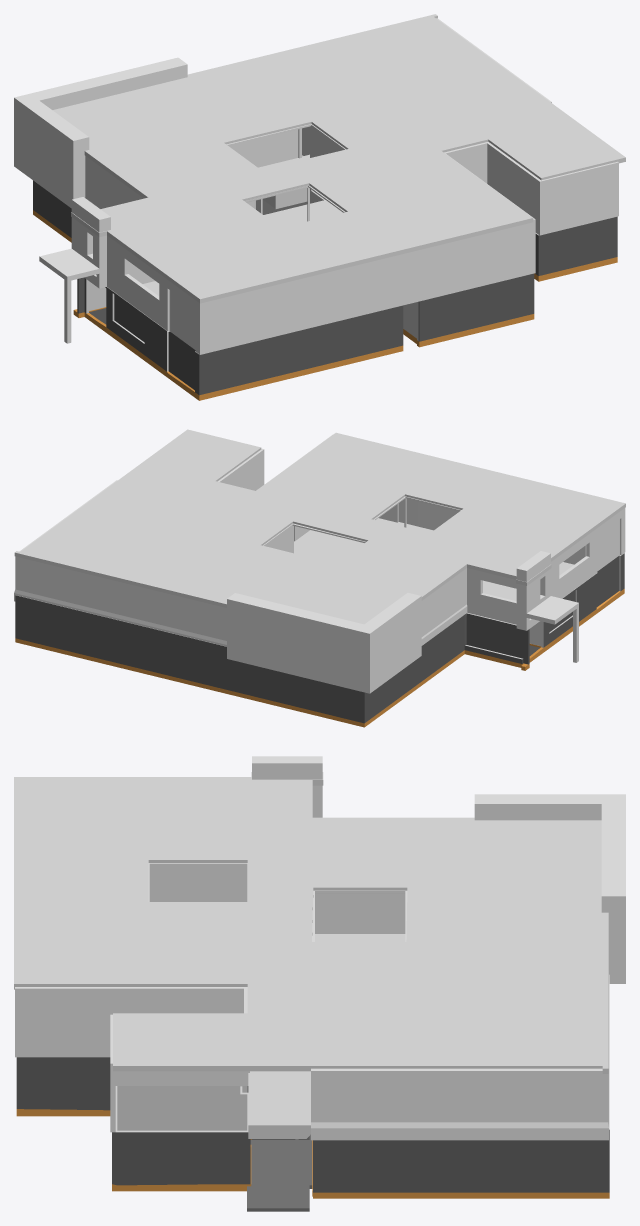
File: FIN_BlockD.fbx
3 renders of one model, top to bottom at view 1: azimuth 30°, elevation 25°; view 2: azimuth 150°, elevation 25°; view 3: azimuth 270°, elevation 25°, orthographic. The views are drawn at different scales.
Parts seen in each view (by area): view 1: Cube.007, Cube.005, Cube, Cube.006; view 2: Cube.007, Cube.005, Cube, Cube.006; view 3: Cube.007, Cube.005, Cube, Cube.006, Cube.001.
Part boxes in pixels (bbox=[...]): Cube.007: bbox=[52, 14, 625, 303]; Cube.005: bbox=[14, 18, 618, 354]; Cube: bbox=[33, 155, 617, 400]; Cube.006: bbox=[143, 154, 342, 346]; Cube.007: bbox=[14, 429, 625, 624]; Cube.005: bbox=[14, 434, 625, 693]; Cube: bbox=[15, 553, 624, 727]; Cube.006: bbox=[294, 518, 617, 600]; Cube.007: bbox=[14, 772, 608, 1073]; Cube.005: bbox=[15, 756, 625, 1140]; Cube: bbox=[16, 974, 609, 1198]; Cube.006: bbox=[248, 934, 405, 1138]; Cube.001: bbox=[247, 1134, 312, 1211].
Bounding box in the file's own units: 25650 × 5356 × 20099.
